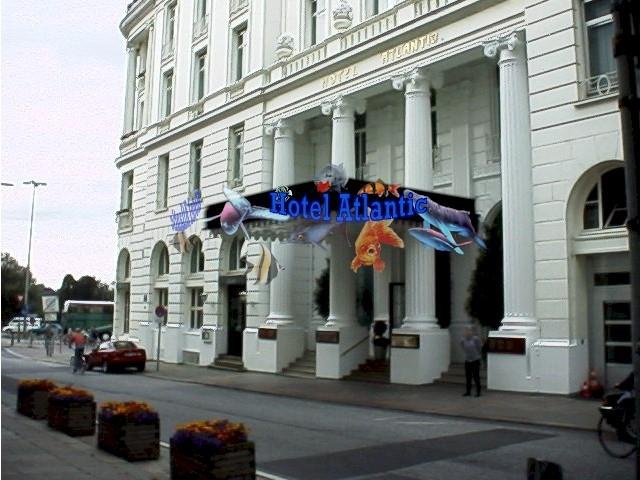non-vehicle: (593, 400, 638, 460), (69, 344, 88, 375)
